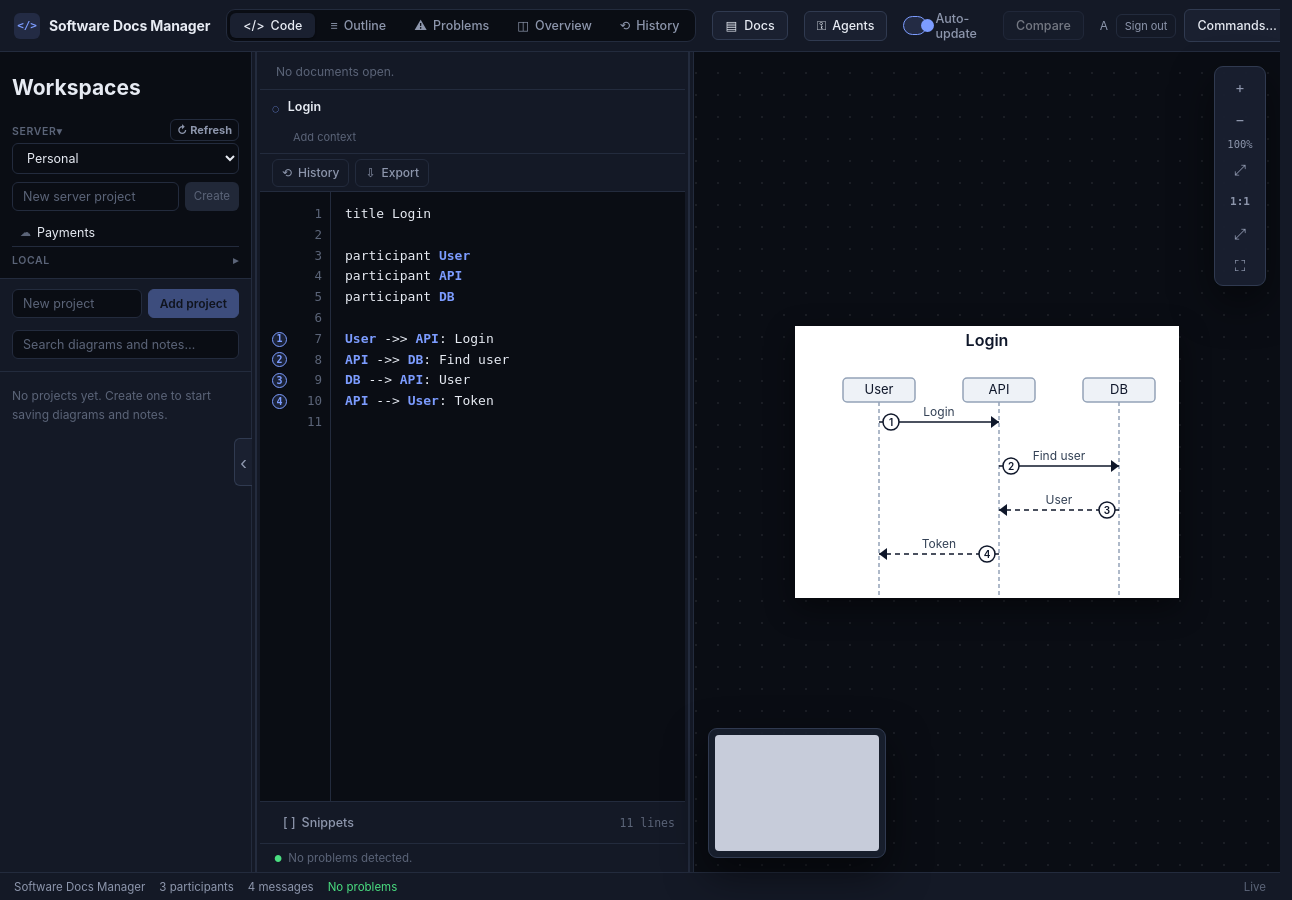
App — authenticated browser › keeps the buffer and offers a retry when the API is unreachable
Click the button with test id "workspace-server-project". click: (126, 232)
box: [12,219,239,246]
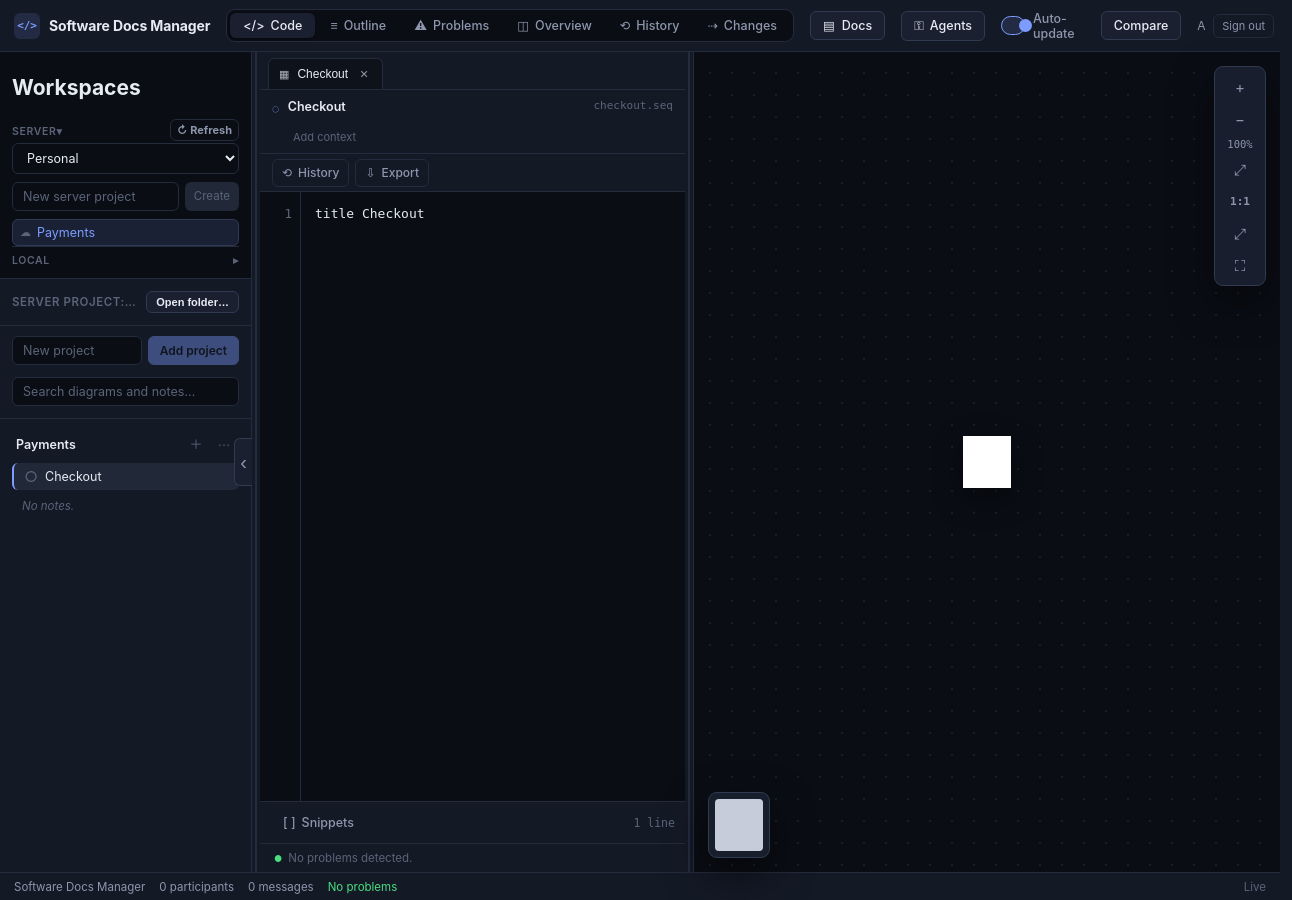
Check: the text box with test id "dsl-textarea" holds "title Checkout"
Replace the text in the text box with test id "dsl-textarea" with "title Offline". click: (493, 496)
box: [301,192,685,801]
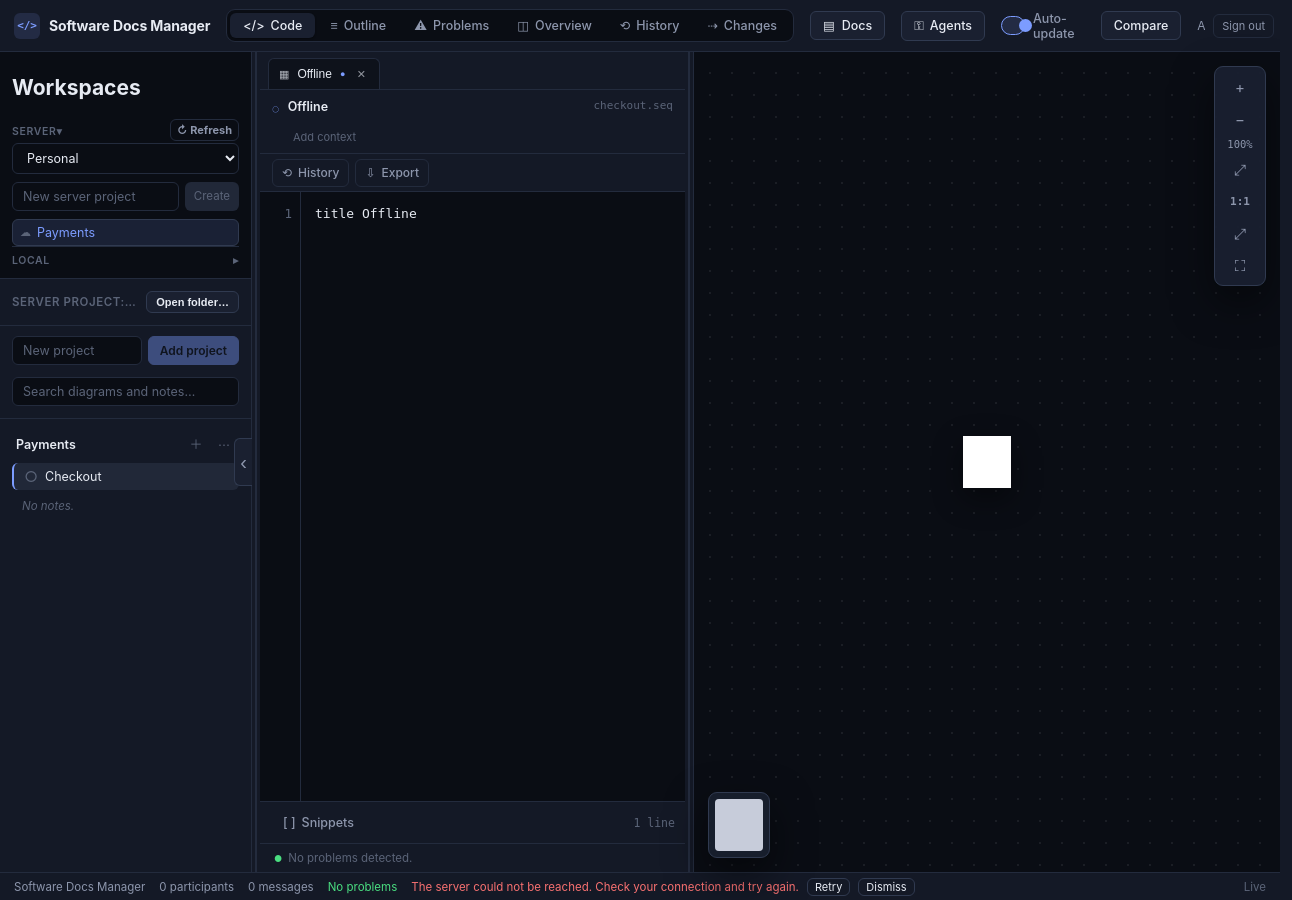
Check: the element with test id "save-error" shows "could not be reached", box [411,880,799,894]
Click the button with test id "save-error-retry". click: (829, 886)
box: [807,878,850,896]
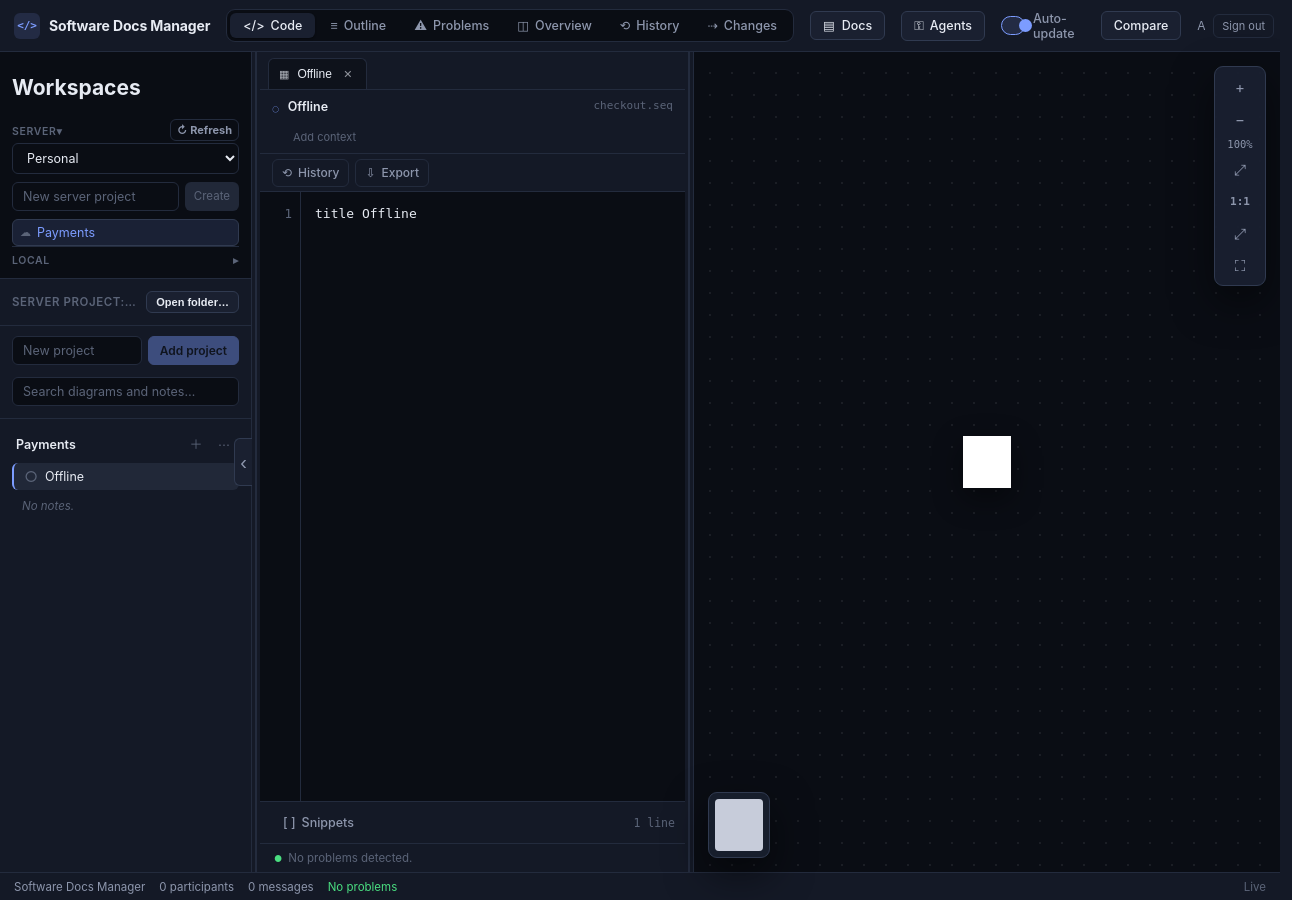
Check: the text "title Offline" is shown, box [315,206,417,221]
Check: the element with test id "save-error" is gone
